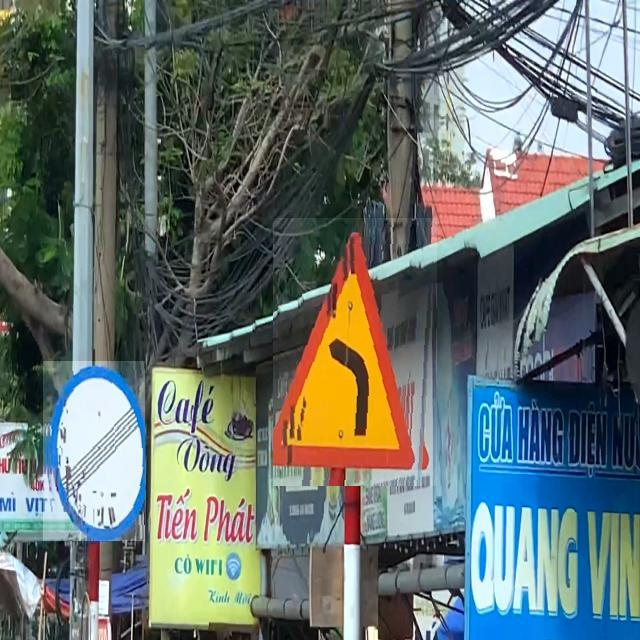bien_nguy_hiem: (273, 218, 437, 486), (43, 361, 145, 541)
